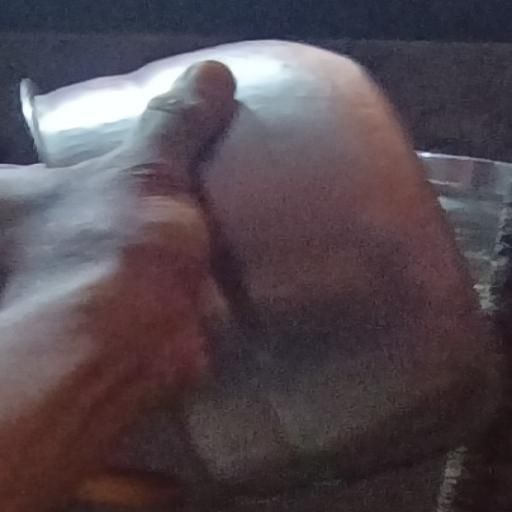vessel: (22, 41, 498, 489)
